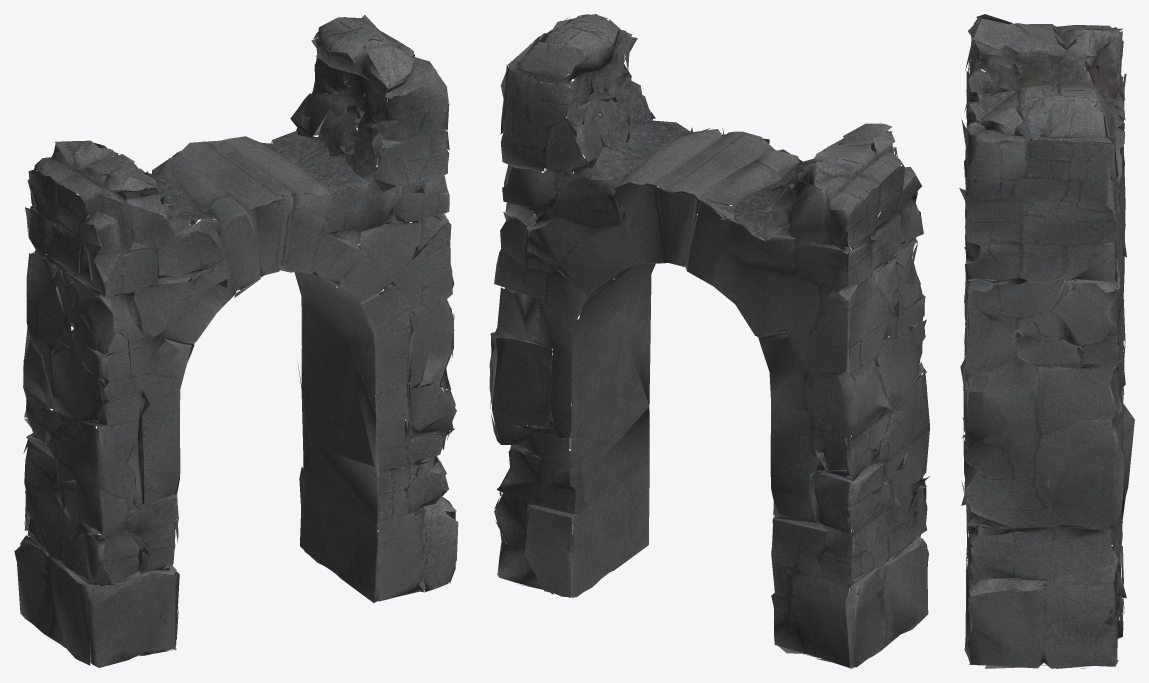
Rendered from arch.glb.
The picture shows the model from 3 angles, left to right: view 1: azimuth 30°, elevation 25°; view 2: azimuth 150°, elevation 25°; view 3: azimuth 270°, elevation 25°; orthographic projection. The views are drawn at different scales.
Parts seen in each view (by area): view 1: world; view 2: world; view 3: world.
Boxes of the visible parts, <box> form: world: <box>14,15,458,667</box>; world: <box>489,14,929,668</box>; world: <box>959,14,1134,668</box>.
Size of the model in its own units: 0.7229 by 1.01 by 0.2893.
Materials: 1 (1 with a texture image).
